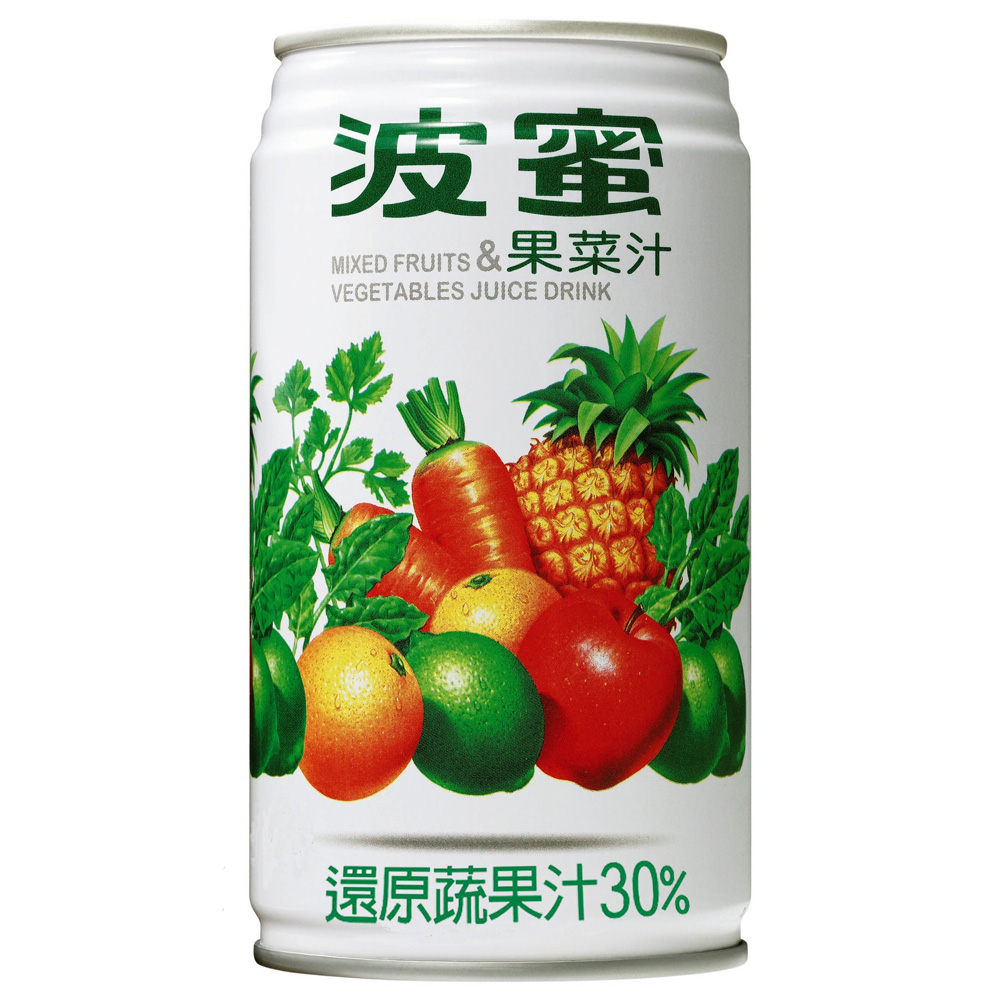vegetables juice: (231, 25, 751, 977)
